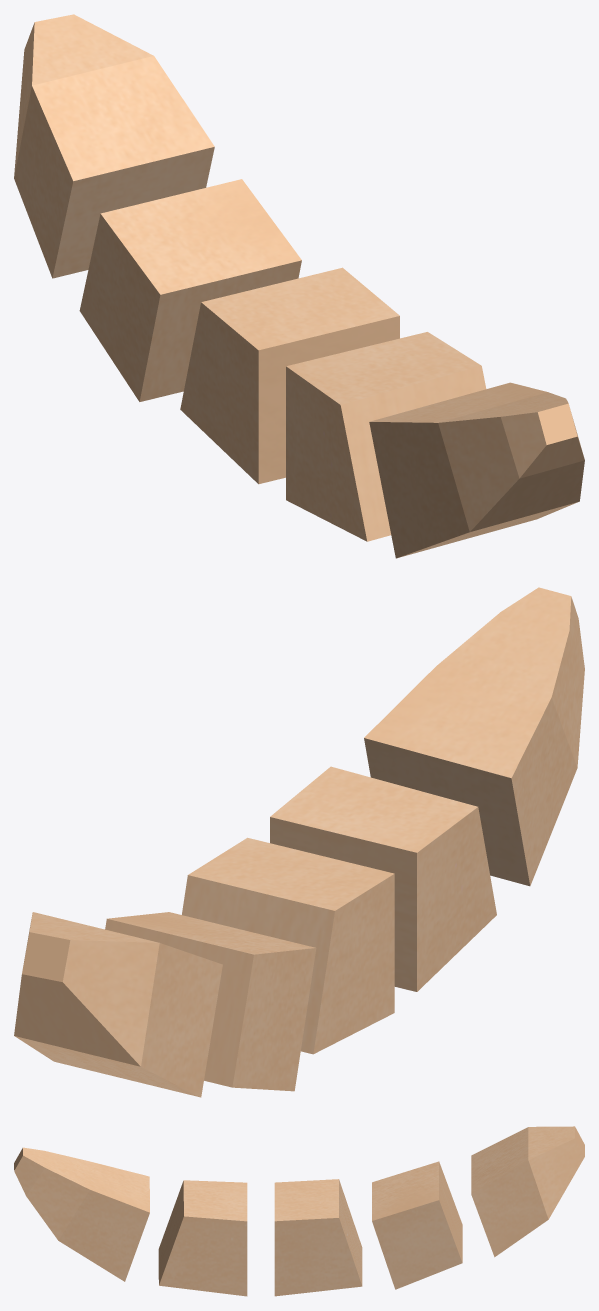
Rendered from platanopartido.fbx.
3 views of the same model, one above another, from view 1: azimuth 30°, elevation 25°; view 2: azimuth 150°, elevation 25°; view 3: azimuth 270°, elevation 25° (orthographic). The views are drawn at different scales.
Parts seen in each view (by area): view 1: partido; view 2: partido; view 3: partido.
Part boxes in pixels (left/top/right/bottom): partido: left=14, top=14, right=584, bottom=558; partido: left=14, top=587, right=584, bottom=1097; partido: left=14, top=1126, right=584, bottom=1296.
Size of the model in its own units: 21.19 by 32.71 by 118.
